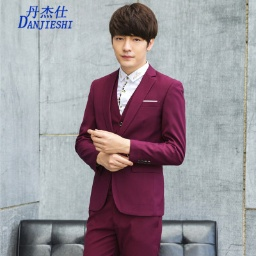face: (107, 1, 158, 71)
